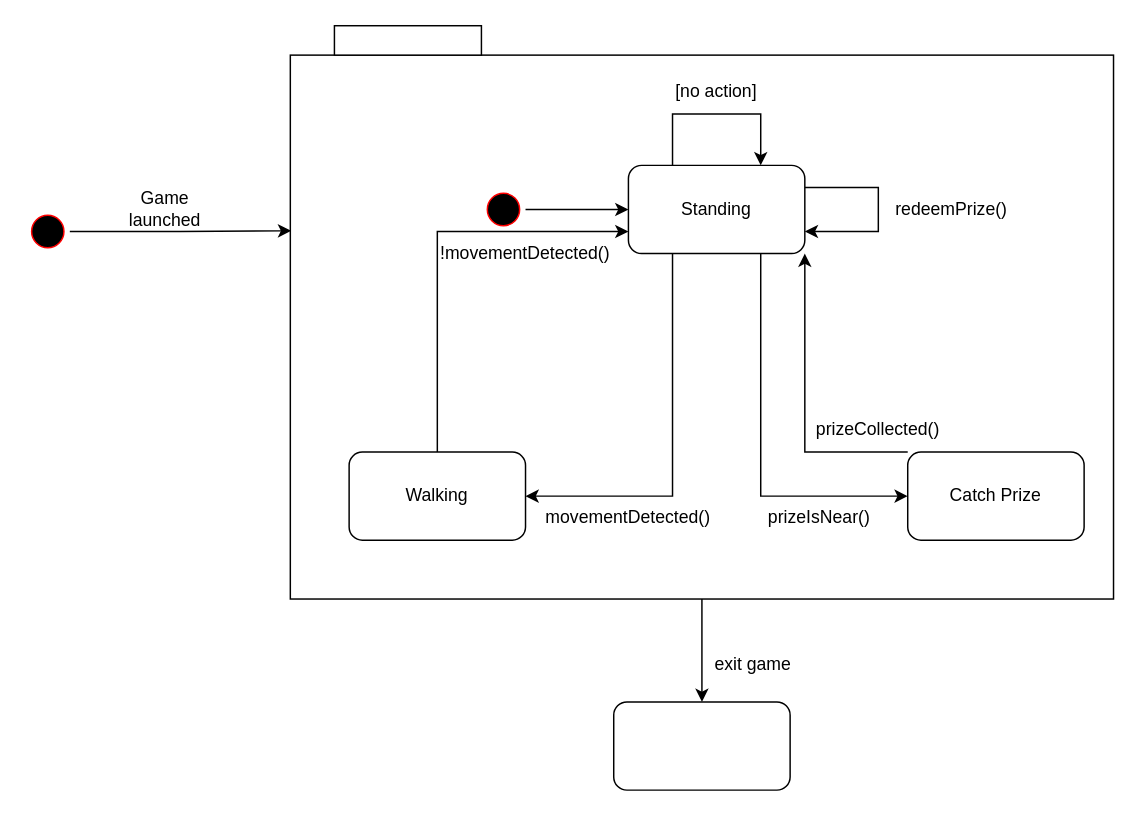
Image size: 1139x816. Some labels were removed from this diagram. Each missing label, with the box of its shape:
Game Closed: (612, 700, 790, 790)
Player In-Game: (333, 24, 481, 55)
